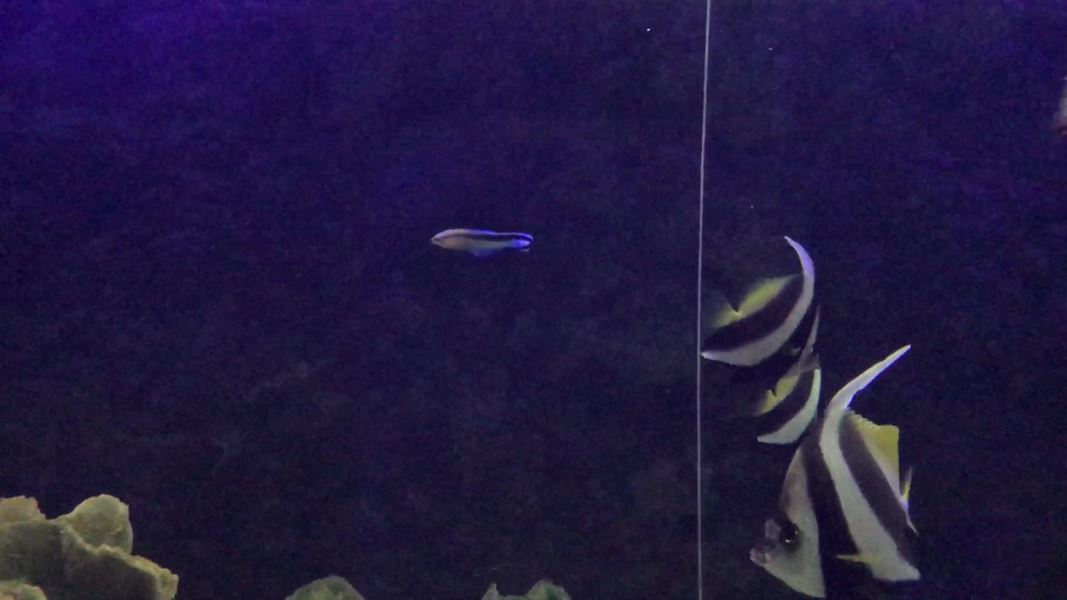Bluesteak cleaner wrasse: (420, 220, 542, 264)
